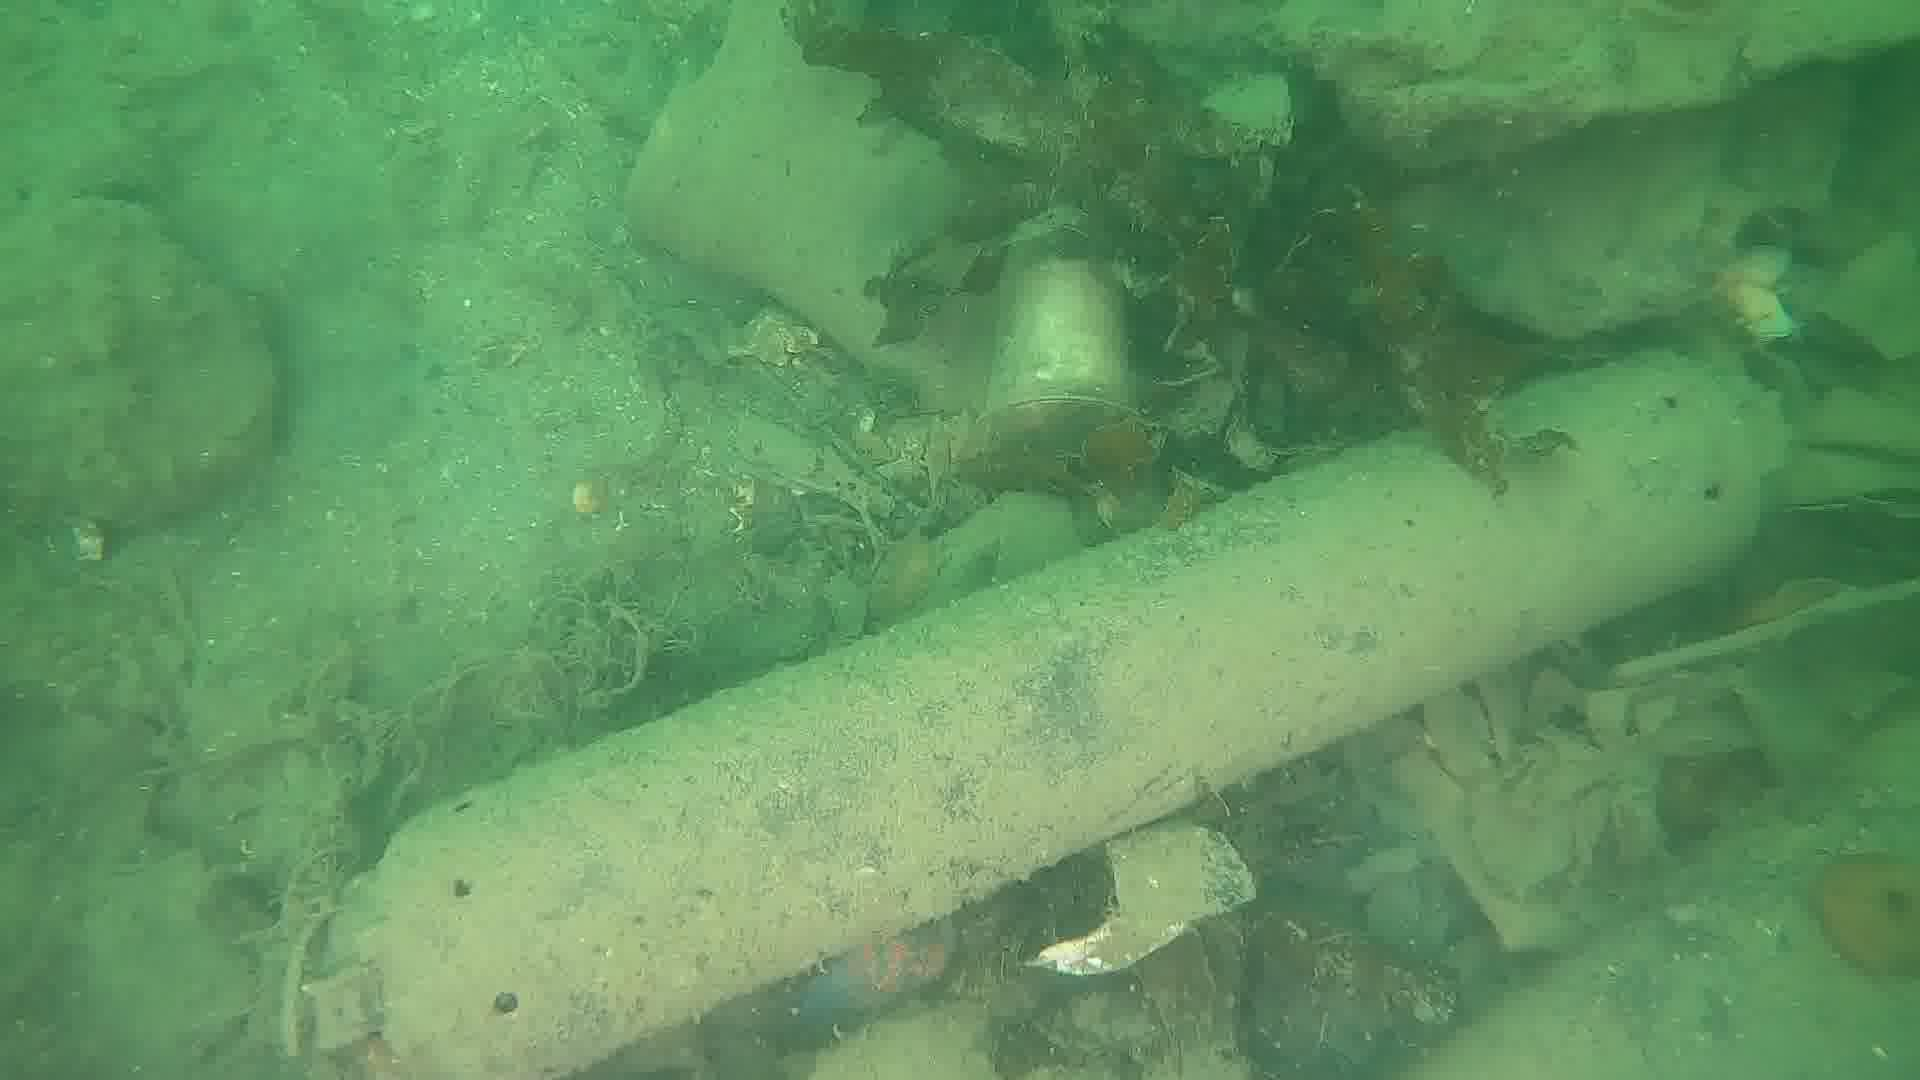eel fish trap: (301, 339, 1793, 1080)
